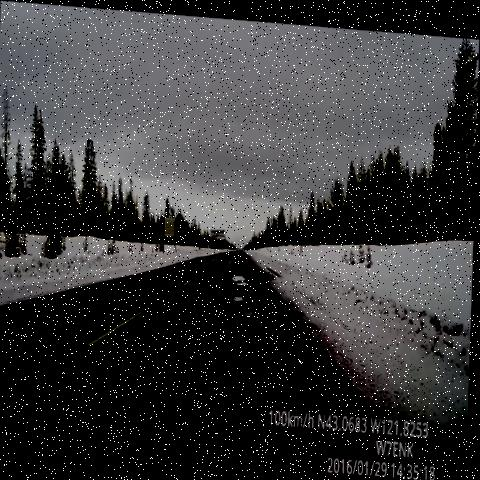pothole: (205, 357, 266, 414), (199, 317, 233, 349), (227, 262, 253, 285), (230, 281, 248, 307), (237, 247, 250, 257)
